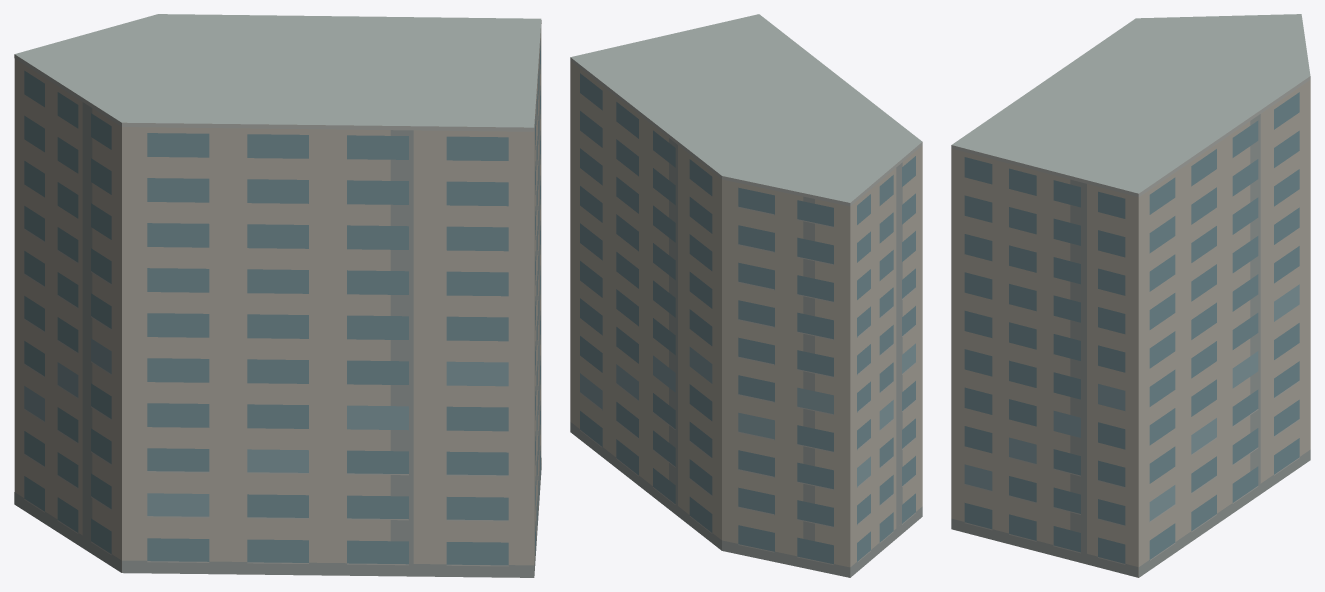
The model's file is residential-c37e2f34-58b5-4b7d-ab5c-7f6ebc550612.glb.
3 views of the same model, side by side, from view 1: azimuth 30°, elevation 25°; view 2: azimuth 150°, elevation 25°; view 3: azimuth 270°, elevation 25° (orthographic). The views are drawn at different scales.
Parts seen in each view (by area): view 1: residential-c37e2f34-58b5-4b7d-ab5c-7f6ebc550612.tmp; view 2: residential-c37e2f34-58b5-4b7d-ab5c-7f6ebc550612.tmp; view 3: residential-c37e2f34-58b5-4b7d-ab5c-7f6ebc550612.tmp.
Part boxes in pixels (<box>): residential-c37e2f34-58b5-4b7d-ab5c-7f6ebc550612.tmp: <box>14,14,541,577</box>; residential-c37e2f34-58b5-4b7d-ab5c-7f6ebc550612.tmp: <box>570,14,922,577</box>; residential-c37e2f34-58b5-4b7d-ab5c-7f6ebc550612.tmp: <box>951,14,1310,577</box>.
Bounding box in the file's own units: 26.08 × 26 × 22.03.
